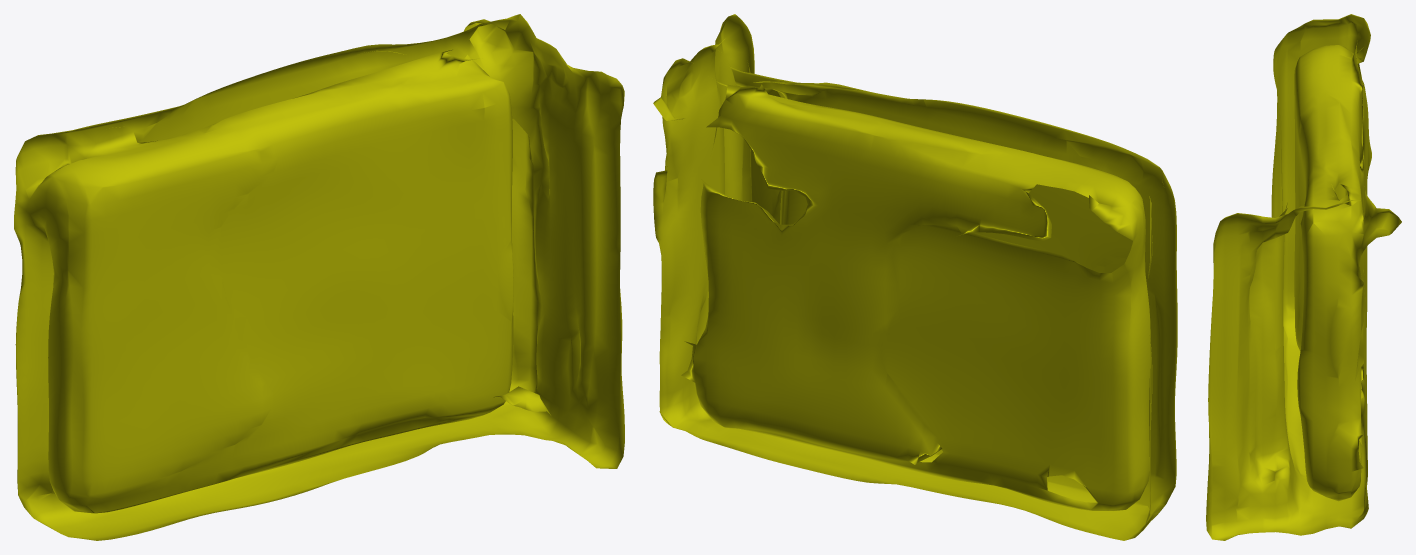
3 views of the same model, side by side, from view 1: azimuth 30°, elevation 25°; view 2: azimuth 150°, elevation 25°; view 3: azimuth 270°, elevation 25° (orthographic). The views are drawn at different scales.
Visible parts, largest first — view 1: world; view 2: world; view 3: world.
Part boxes in pixels (box(x1,y1,x2,y2)): world: box(14, 14, 624, 540); world: box(653, 14, 1177, 540); world: box(1206, 14, 1401, 540).
Bounding box in the file's own units: 40.43 × 29.13 × 15.51.
